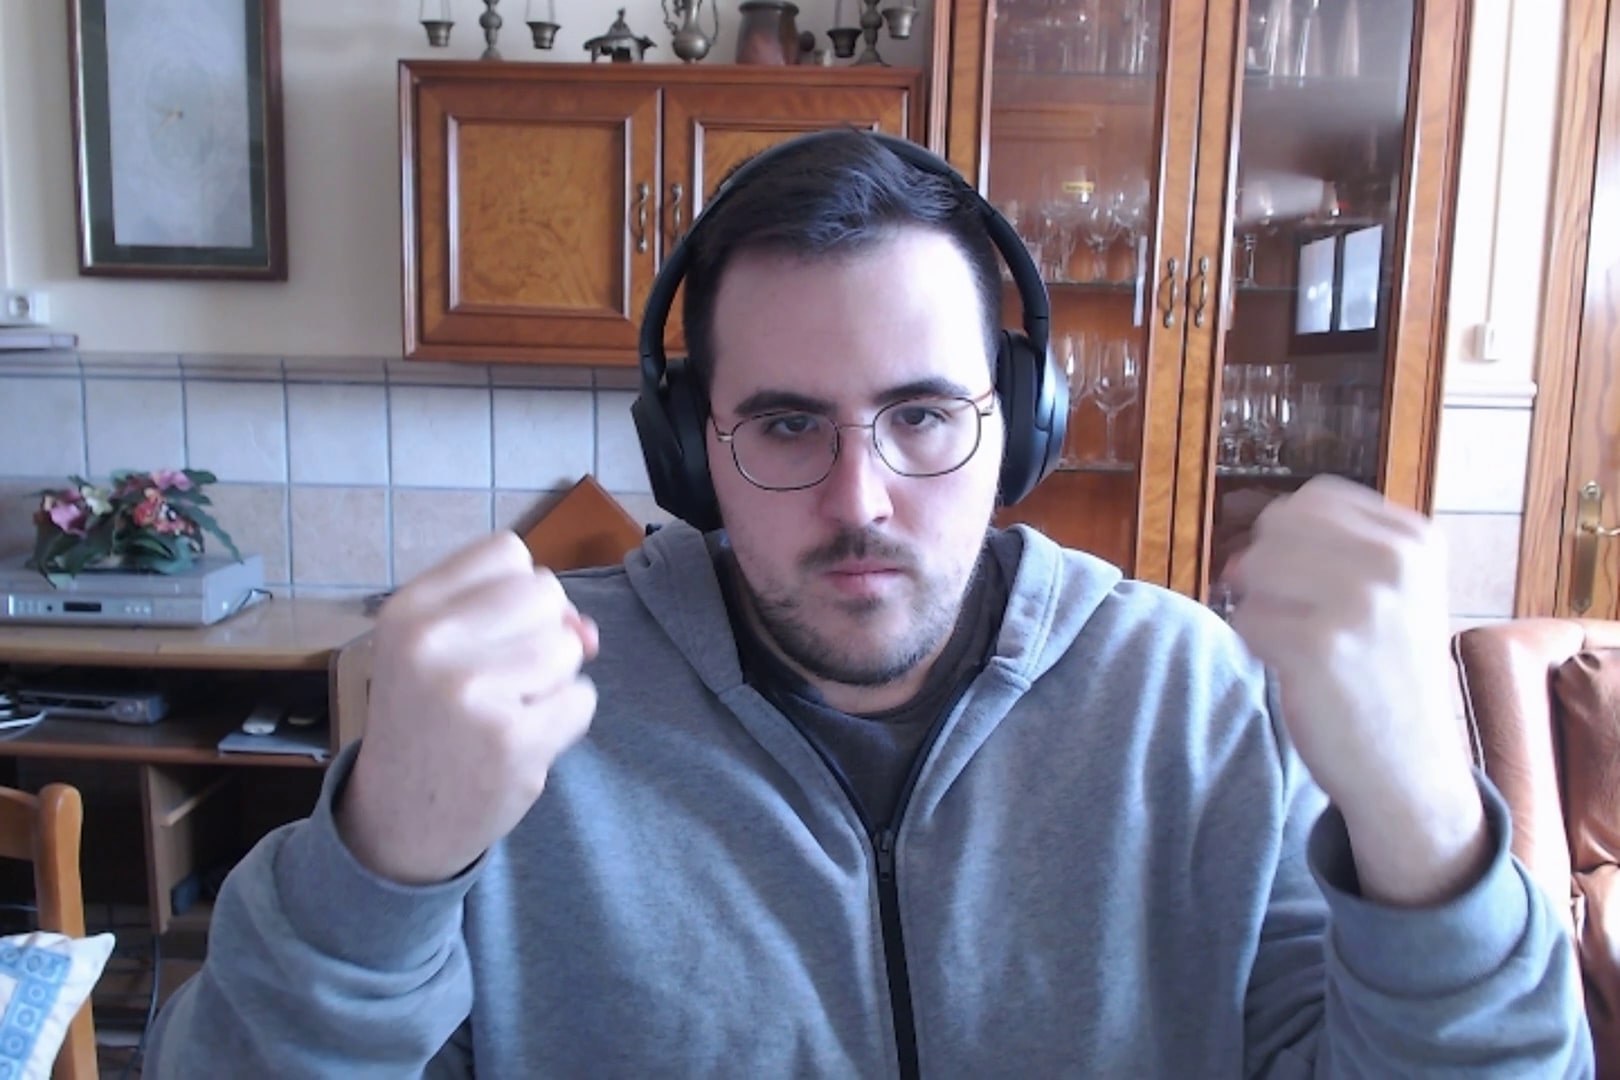hand: (1220, 467, 1518, 851), (362, 521, 607, 871)
